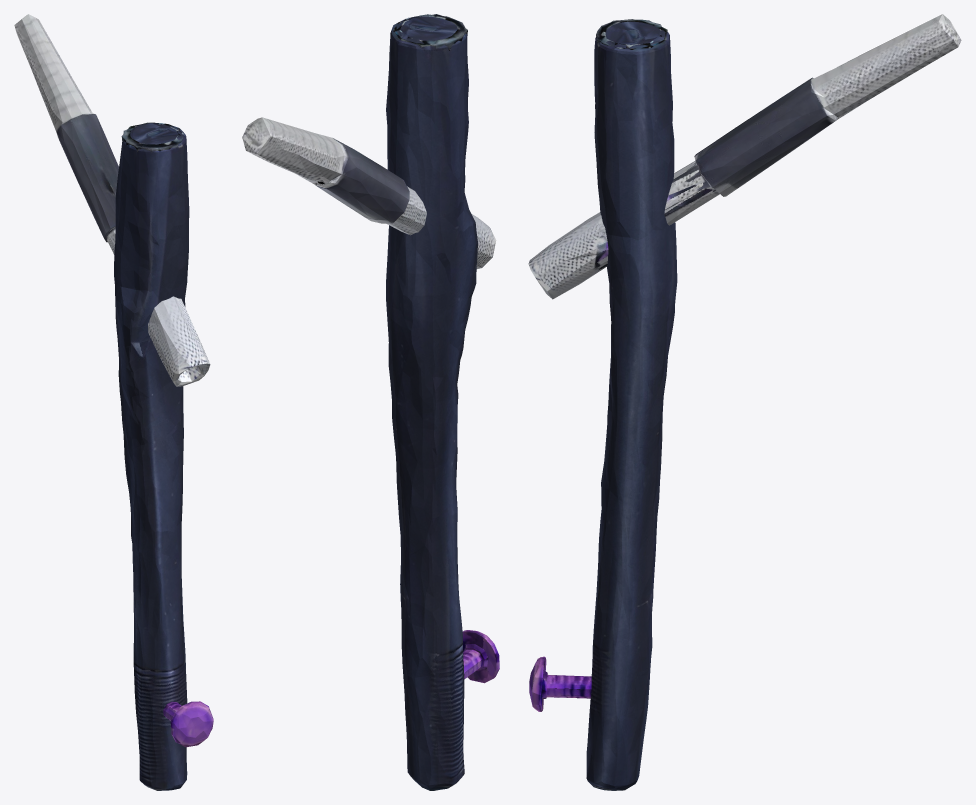
3 views of the same model, side by side, from view 1: azimuth 30°, elevation 25°; view 2: azimuth 150°, elevation 25°; view 3: azimuth 270°, elevation 25° (orthographic). The views are drawn at different scales.
Parts seen in each view (by area): view 1: tripo_part_5, tripo_part_1, tripo_part_0, tripo_part_3; view 2: tripo_part_5, tripo_part_1, tripo_part_0, tripo_part_3; view 3: tripo_part_5, tripo_part_1, tripo_part_0.
Boxes of the visible parts, x1,y1,x2,y2 form: tripo_part_5: [114, 123, 189, 790]; tripo_part_1: [14, 14, 210, 386]; tripo_part_0: [163, 701, 213, 747]; tripo_part_3: [121, 122, 183, 152]; tripo_part_5: [386, 16, 477, 790]; tripo_part_1: [242, 117, 496, 268]; tripo_part_0: [462, 630, 499, 683]; tripo_part_3: [393, 14, 467, 50]; tripo_part_5: [586, 21, 677, 790]; tripo_part_1: [528, 14, 961, 299]; tripo_part_0: [529, 656, 591, 711].
Size of the model in its own units: 0.098 by 0.9671 by 0.4903.
4 materials, 4 textured.
